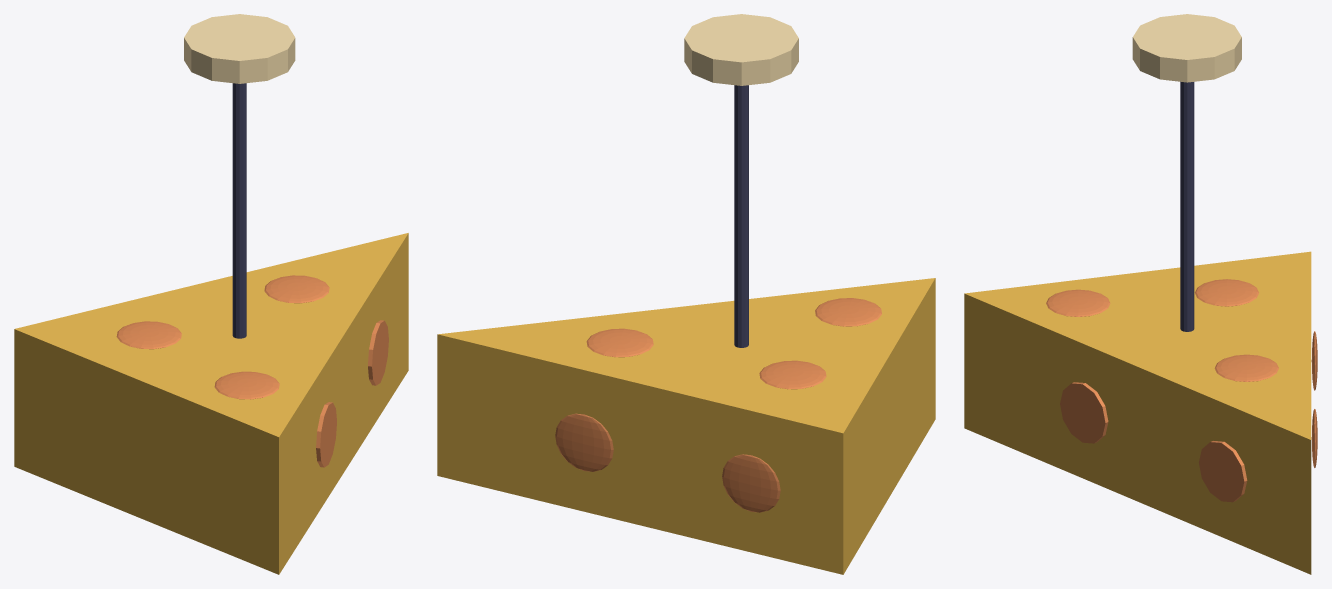
Rendered from cheese-ceiling-light.glb.
The picture shows the model from 3 angles, left to right: view 1: azimuth 30°, elevation 25°; view 2: azimuth 150°, elevation 25°; view 3: azimuth 270°, elevation 25°; orthographic projection. The views are drawn at different scales.
Parts seen in each view (by area): view 1: cheese-ceiling-light; view 2: cheese-ceiling-light; view 3: cheese-ceiling-light.
Part boxes in pixels (x1,y1,x2,y2): cheese-ceiling-light: (14, 14, 408, 574); cheese-ceiling-light: (437, 14, 935, 574); cheese-ceiling-light: (964, 14, 1317, 574).
Size of the model in its own units: 0.9 by 0.95 by 0.713.
